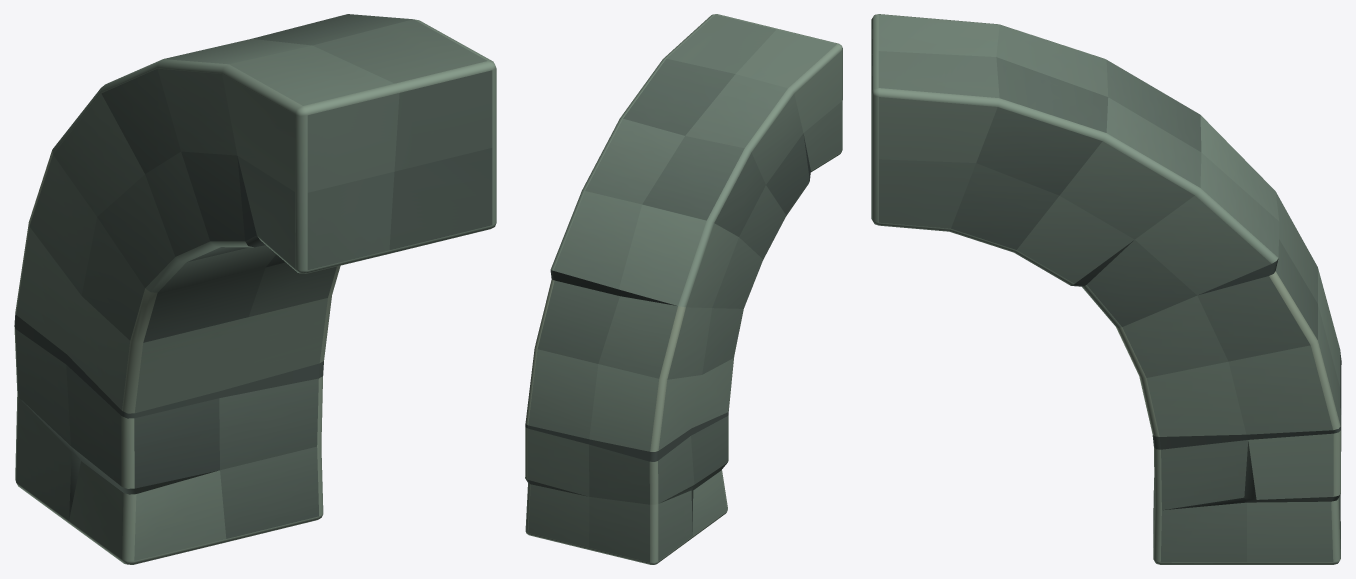
File: stone_arch2.fbx
3 views of the same model, side by side, from view 1: azimuth 30°, elevation 25°; view 2: azimuth 150°, elevation 25°; view 3: azimuth 270°, elevation 25° (orthographic). The views are drawn at different scales.
Visible parts, largest first — view 1: stone_arch2; view 2: stone_arch2; view 3: stone_arch2.
Boxes of the visible parts, x1,y1,x2,y2 form: stone_arch2: (14,14,496,564); stone_arch2: (525,14,842,564); stone_arch2: (871,14,1341,564).
Bounding box in the file's own units: 103 × 280 × 250.
Materials: 1 (1 with a texture image).
